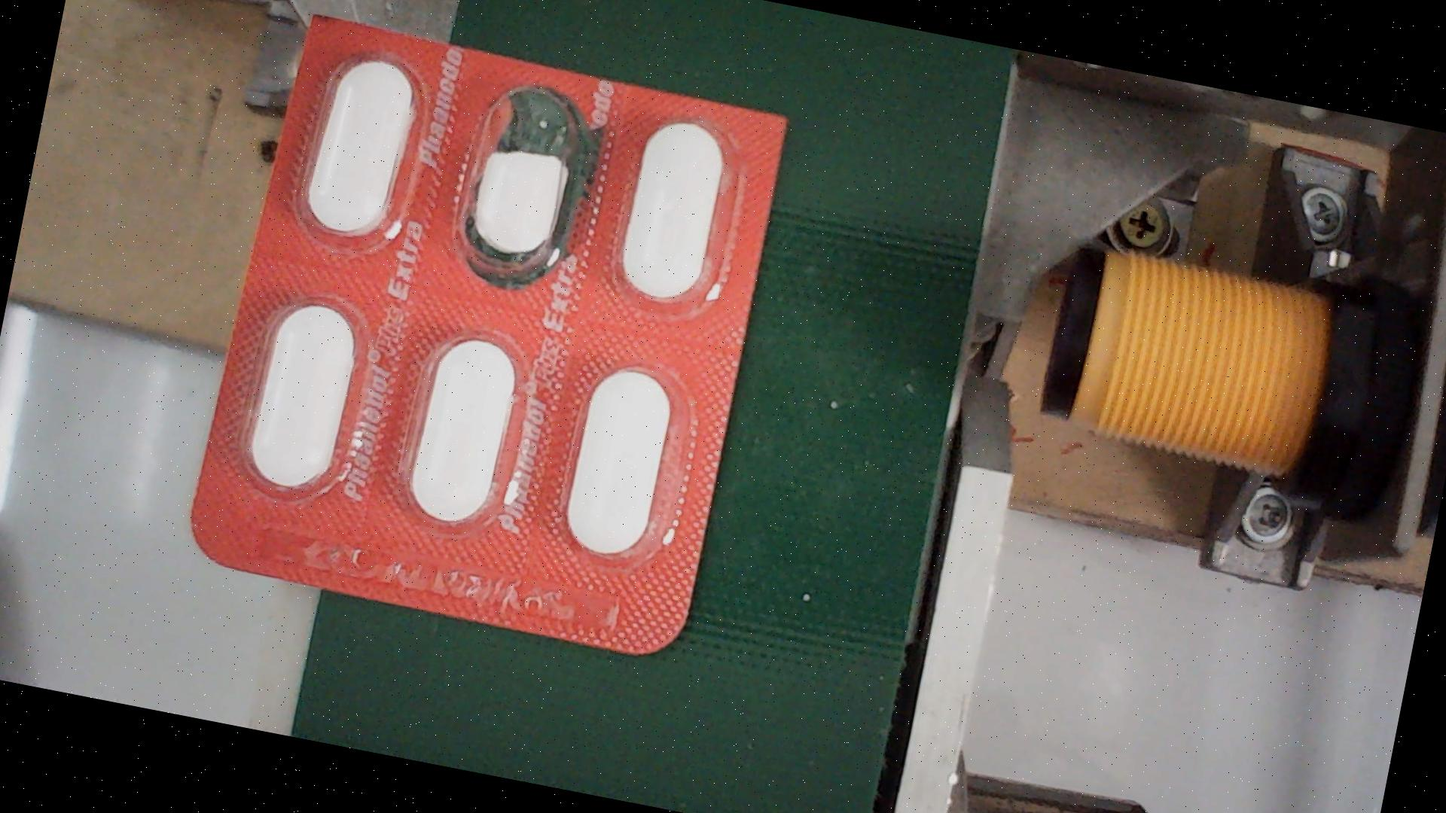Full: (277, 36, 435, 269), (591, 96, 749, 329), (391, 312, 540, 551), (546, 346, 694, 586), (225, 278, 373, 518)
Partial: (441, 68, 599, 301)
